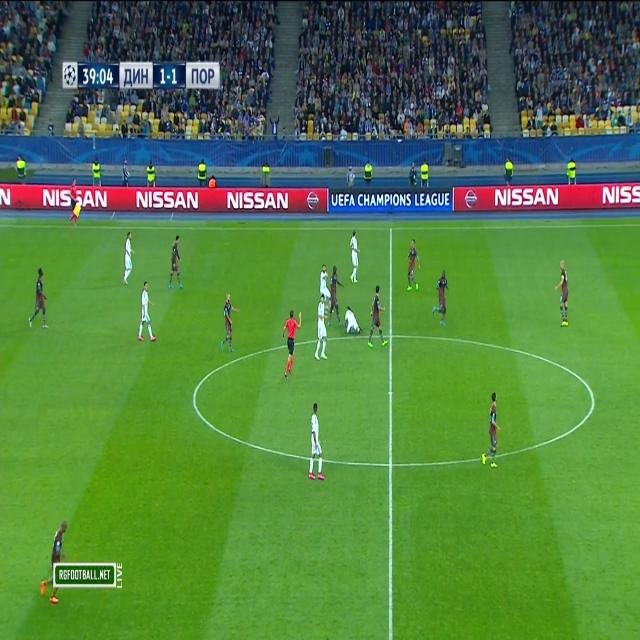Player: (40, 517, 70, 606), (480, 391, 501, 470), (306, 402, 326, 481), (26, 265, 49, 333), (367, 283, 390, 349), (217, 293, 240, 357), (136, 278, 156, 344), (165, 233, 186, 295), (554, 258, 571, 330), (432, 267, 451, 328), (314, 294, 329, 363), (327, 266, 343, 328), (405, 237, 422, 294), (348, 229, 362, 285), (343, 303, 364, 336), (124, 230, 136, 286), (318, 261, 330, 297)
Referee: (279, 307, 303, 380), (67, 177, 81, 227)
